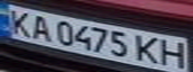0: (51, 18, 75, 47)
4: (72, 22, 93, 52)
5: (109, 28, 133, 60)
7: (87, 25, 112, 54)
A: (27, 14, 54, 43)
H: (157, 38, 190, 70)
K: (3, 7, 36, 37), (133, 34, 163, 65)
